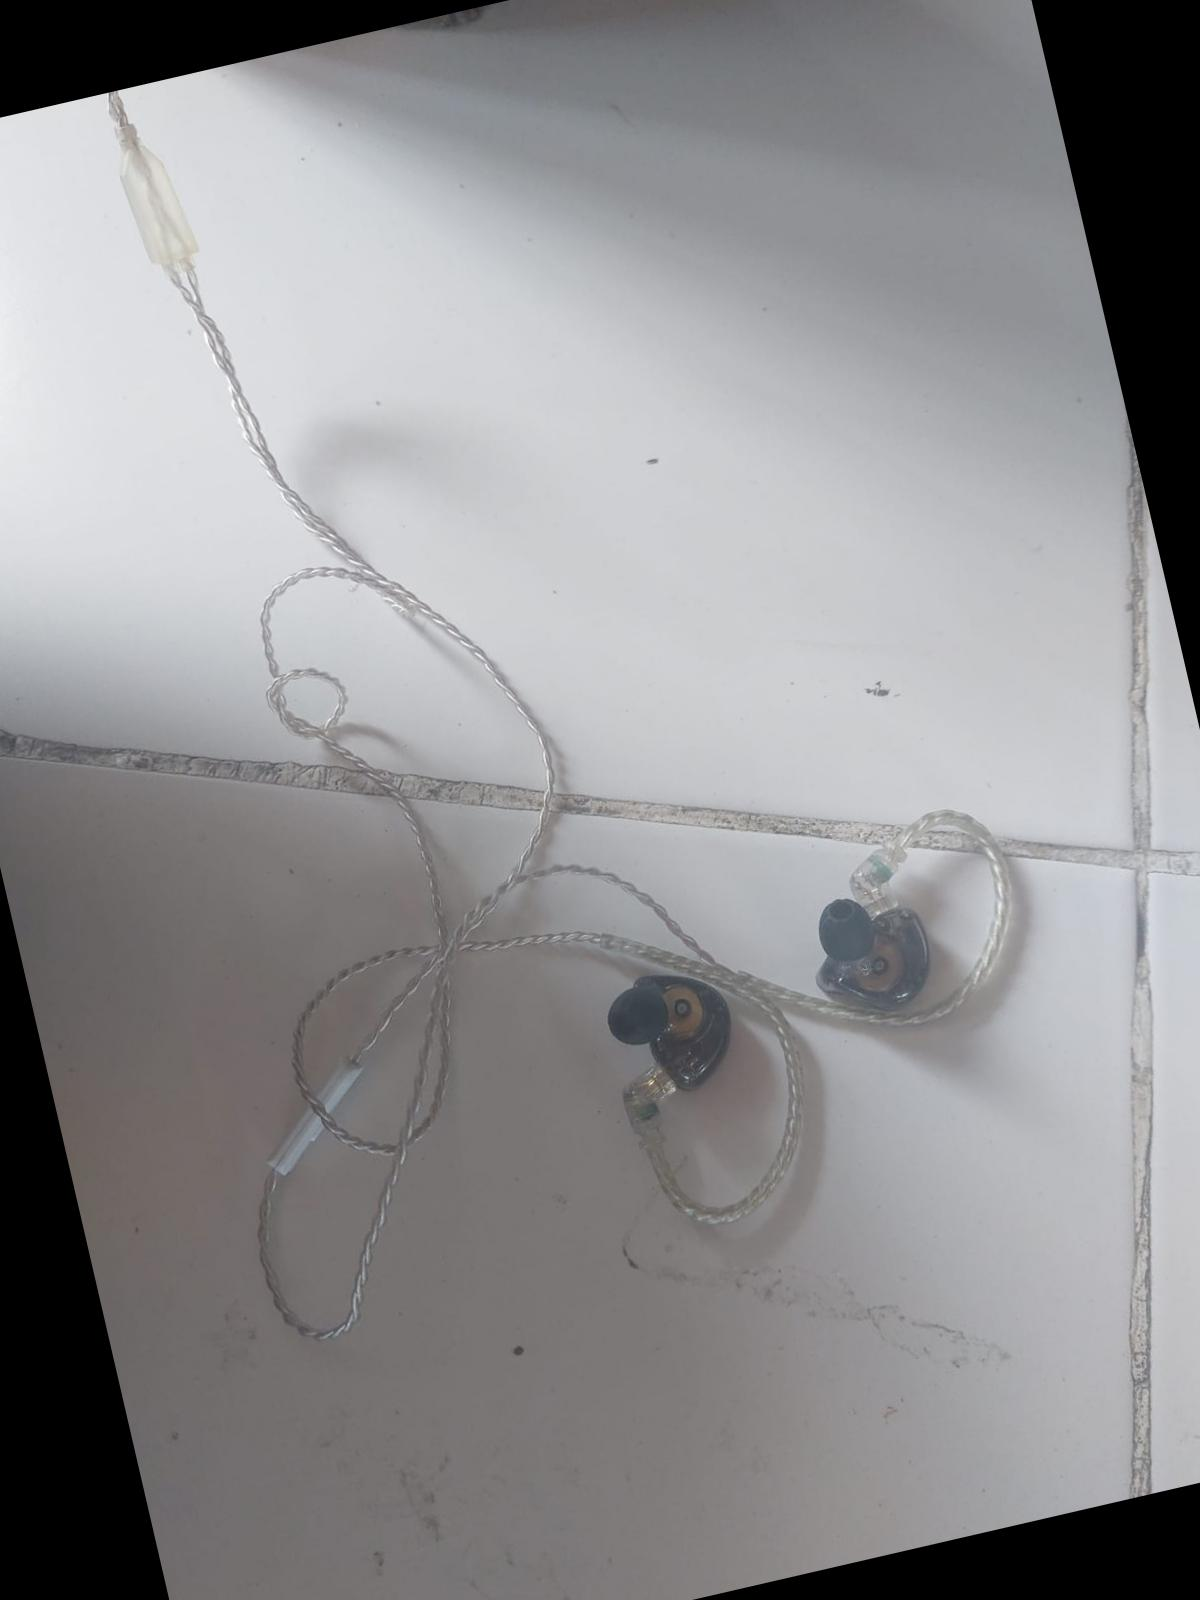Earphone: (773, 818, 1007, 1057), (547, 927, 759, 1162)
